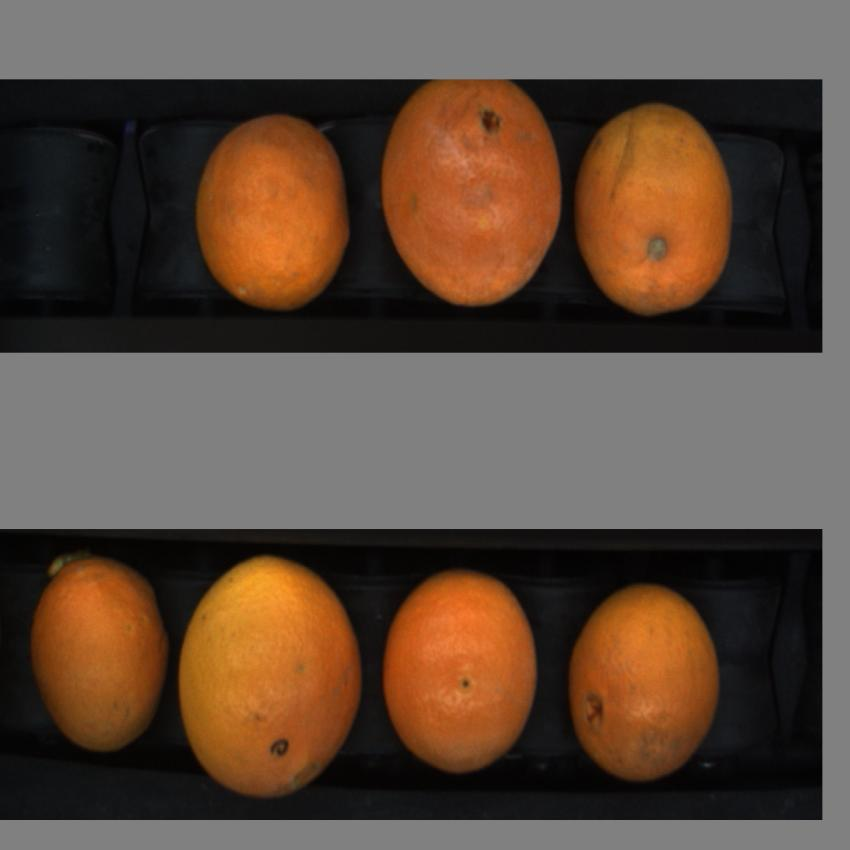Buen estado: (178, 557, 371, 798), (575, 94, 737, 319), (380, 574, 550, 775), (190, 106, 359, 305), (567, 588, 733, 780), (30, 563, 171, 752)
Mal estado: (380, 76, 568, 313)
